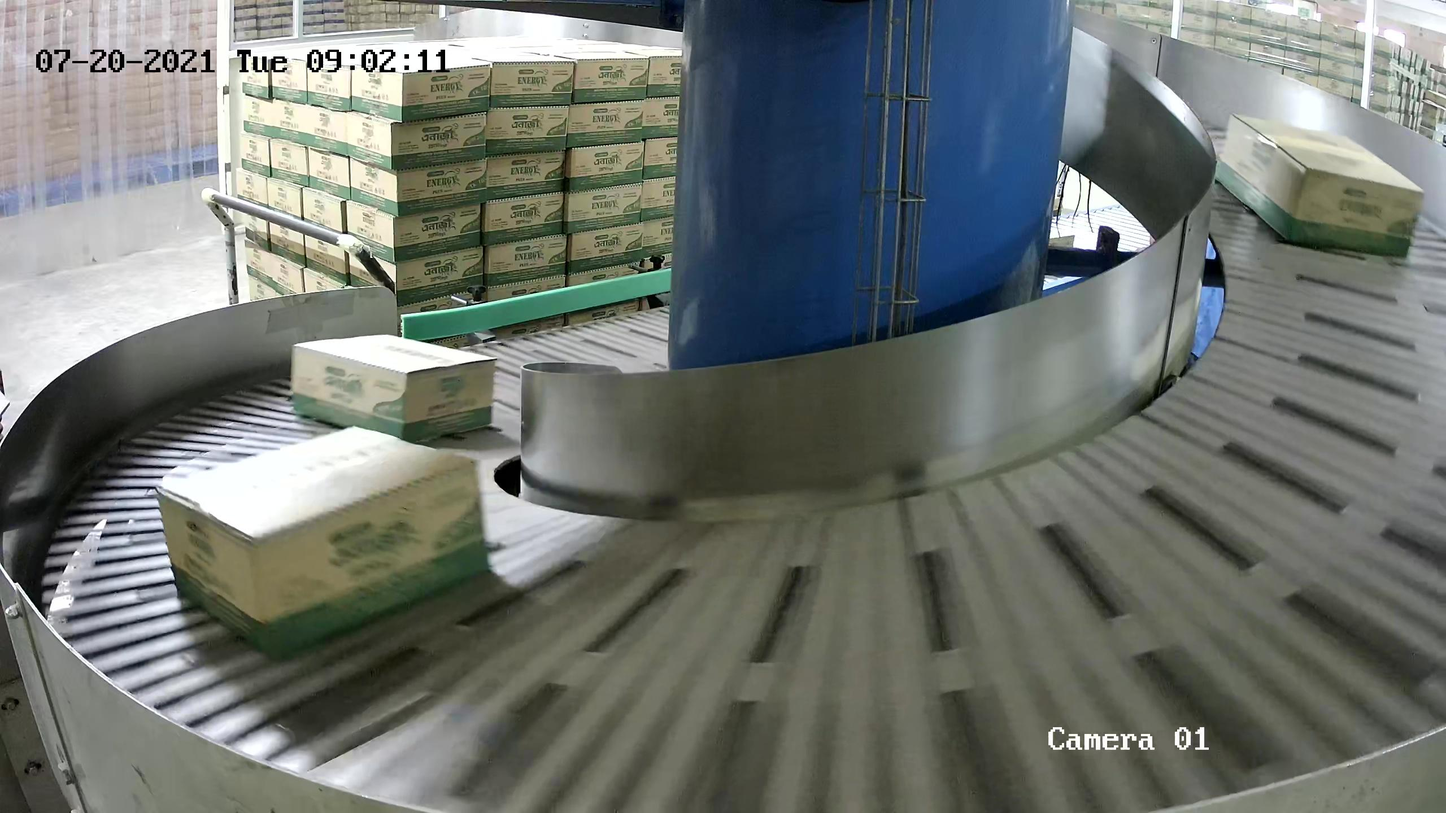Box: (156, 423, 492, 661), (1213, 111, 1425, 263), (290, 333, 496, 443)
